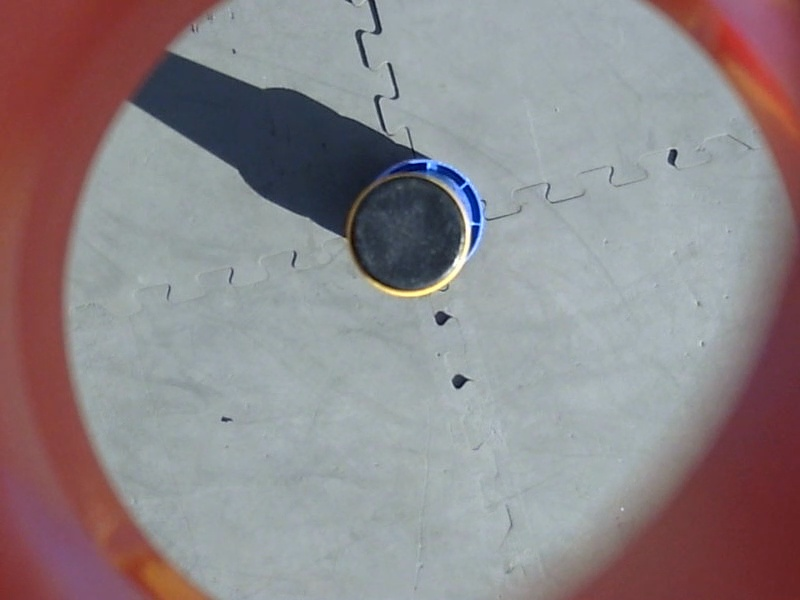tip: (342, 168, 477, 304)
